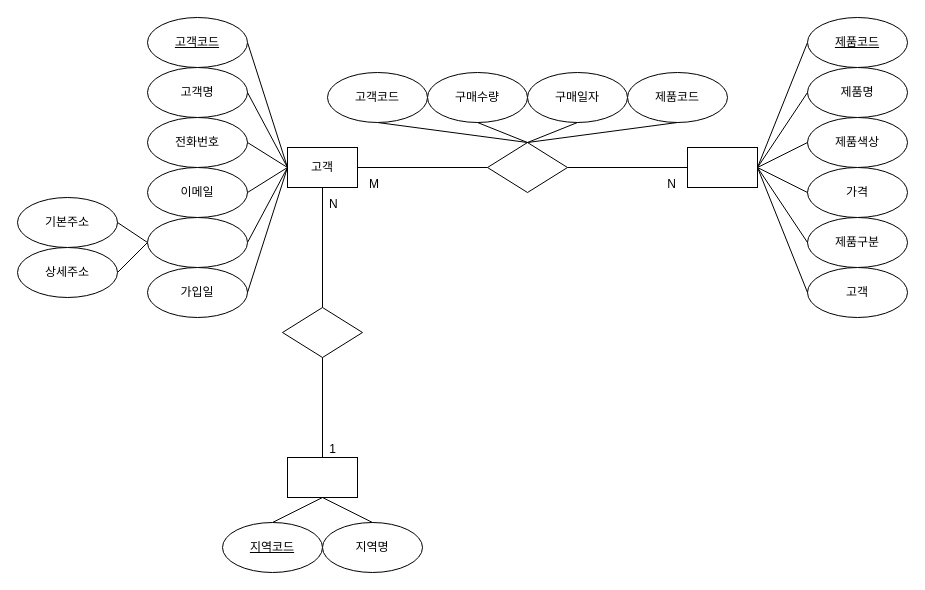
Some shapes in this 925 by 590 pixel diagram are drawn without their labels. The shapes that lost their labels are listed below. From the top down, each one's centre as x and y in pixels, then its label:
the point at 527,167: 구매
the point at 722,167: 제품
the point at 197,242: 주소
the point at 322,332: 관리
the point at 322,477: 지역
